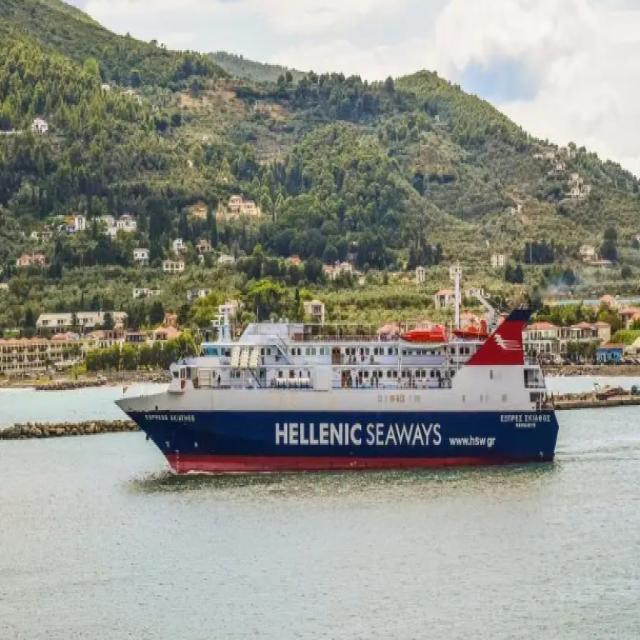passenger ship: (103, 257, 566, 487)
